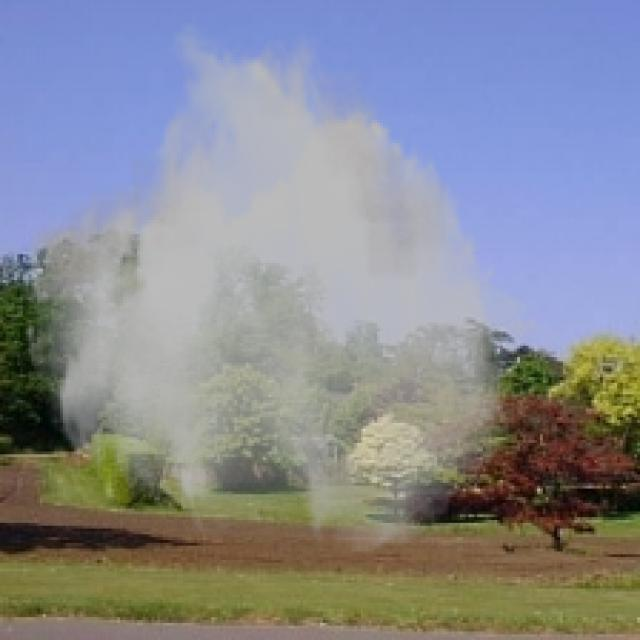smoke: (20, 20, 540, 557)
